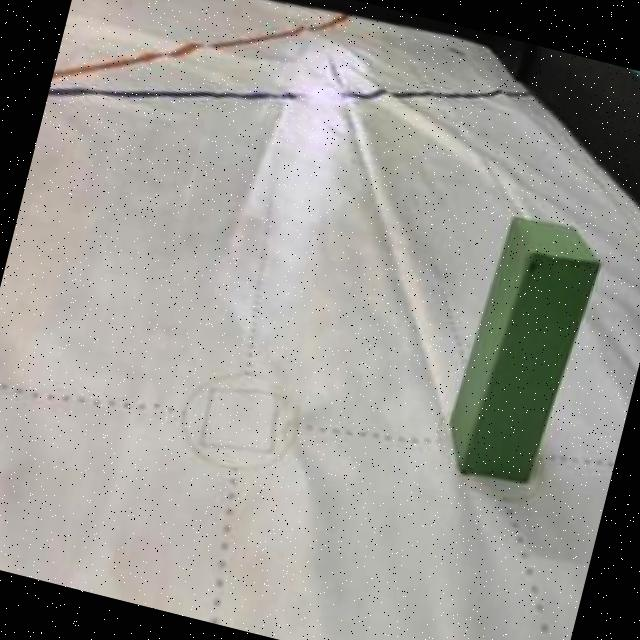greenbox: (439, 210, 610, 496)
